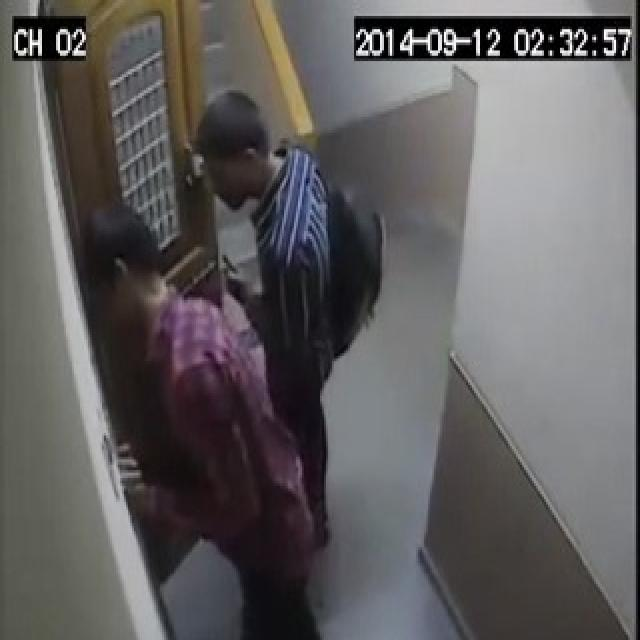burglary: (78, 203, 306, 562)
